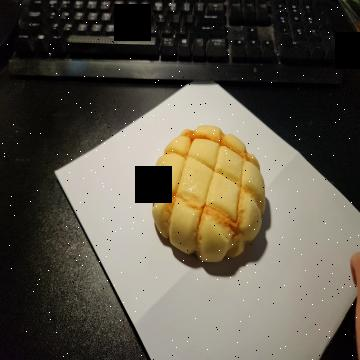melon_bread: (151, 126, 266, 264)
